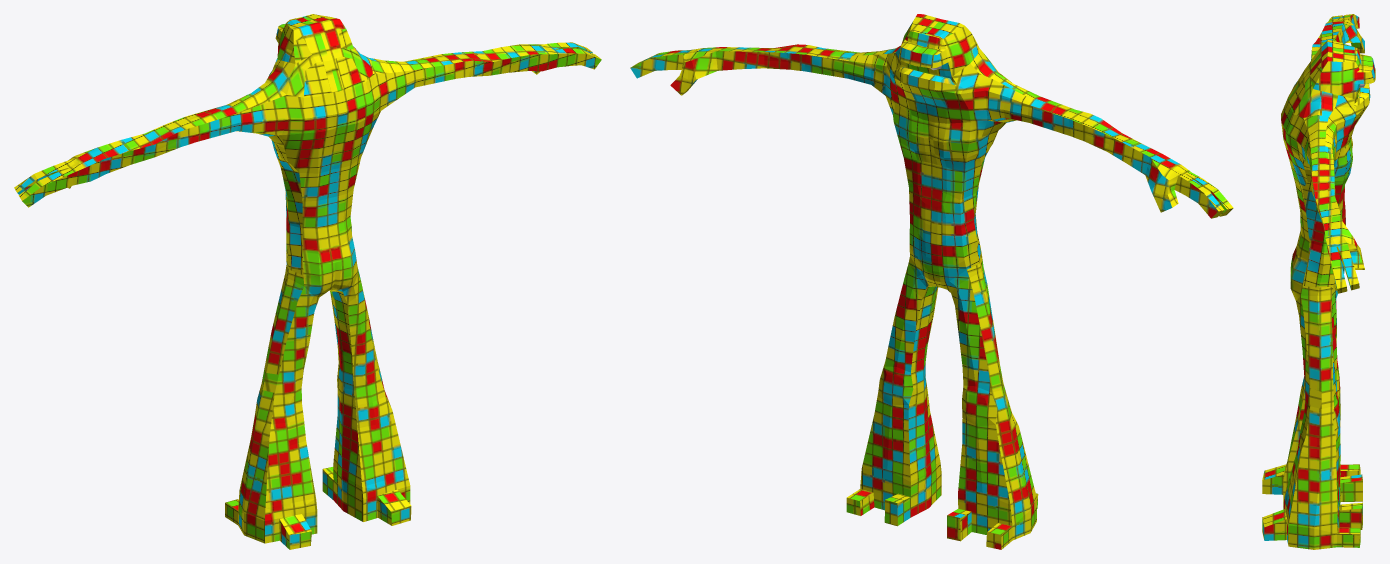
The model's file is SinergiaDrone.DAE.
3 renders of one model, left to right at view 1: azimuth 30°, elevation 25°; view 2: azimuth 150°, elevation 25°; view 3: azimuth 270°, elevation 25°, orthographic. The views are drawn at different scales.
Visible parts, largest first — view 1: sinergia; view 2: sinergia; view 3: sinergia.
Part boxes in pixels (box(x1,y1,x2,y2)): sinergia: box(14, 14, 601, 549); sinergia: box(630, 14, 1233, 549); sinergia: box(1262, 14, 1375, 549).
Size of the model in its own units: 5.07 by 0.9037 by 4.06.
1 material, 1 textured.
